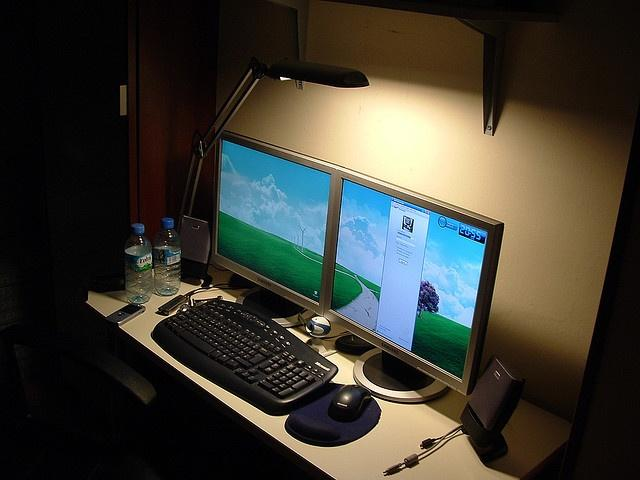AIO PC-Monitor-TV: (320, 165, 504, 396), (206, 127, 338, 316)
